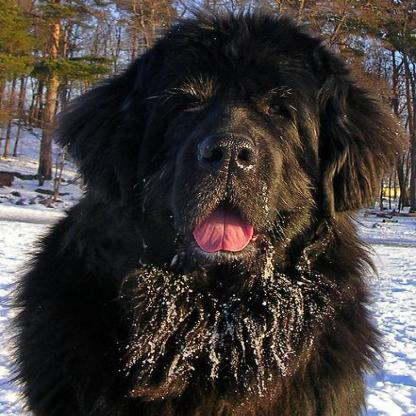Newfoundland: (7, 8, 413, 414)
